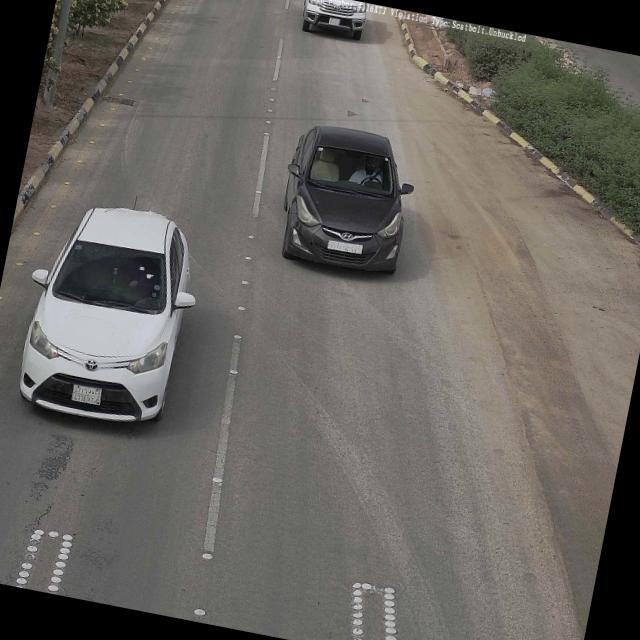person_with_seatbelt: (348, 154, 386, 192)
